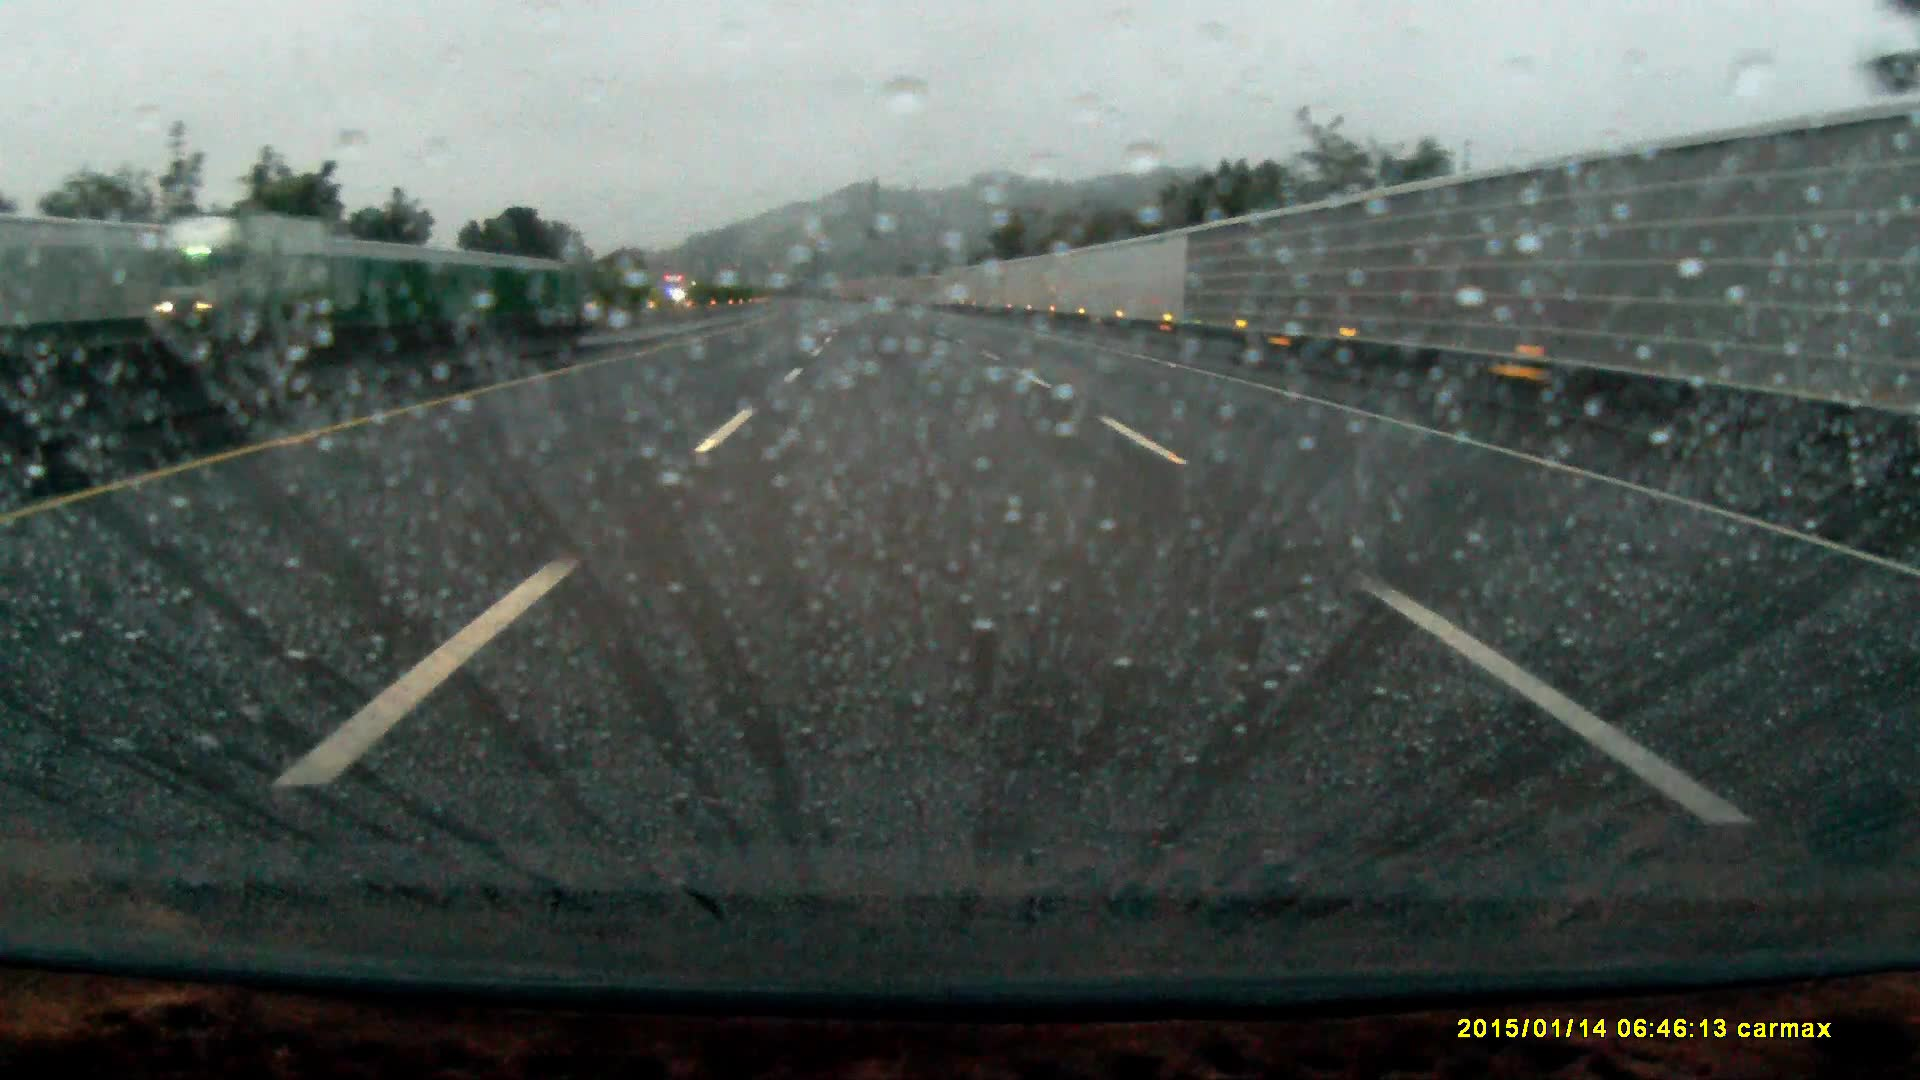vehicle: (102, 208, 313, 343)
